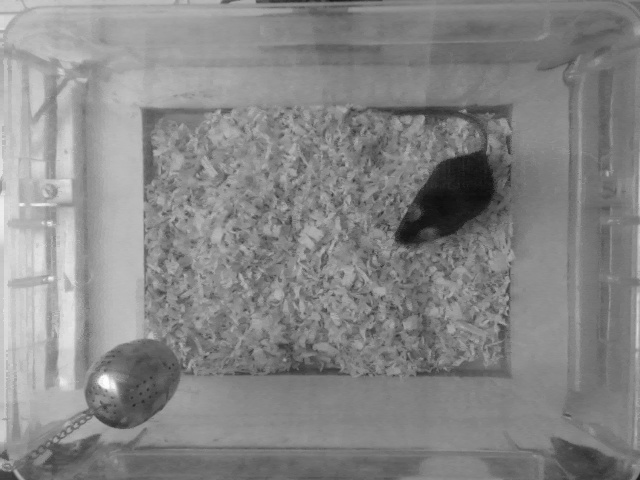mice: (366, 107, 499, 249)
